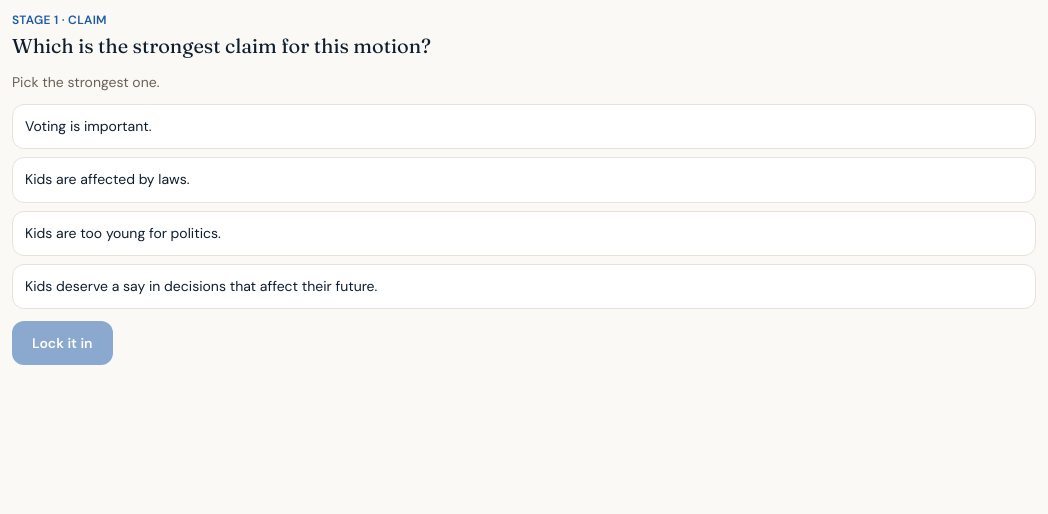
Scenario: ChoiceStage › asks the coach to talk a wrong pick through
The image size is (1048, 514).
Click the radio button labelled "Voting is important.". click: {"x": 88, "y": 126}
box: [12,104,1036,149]
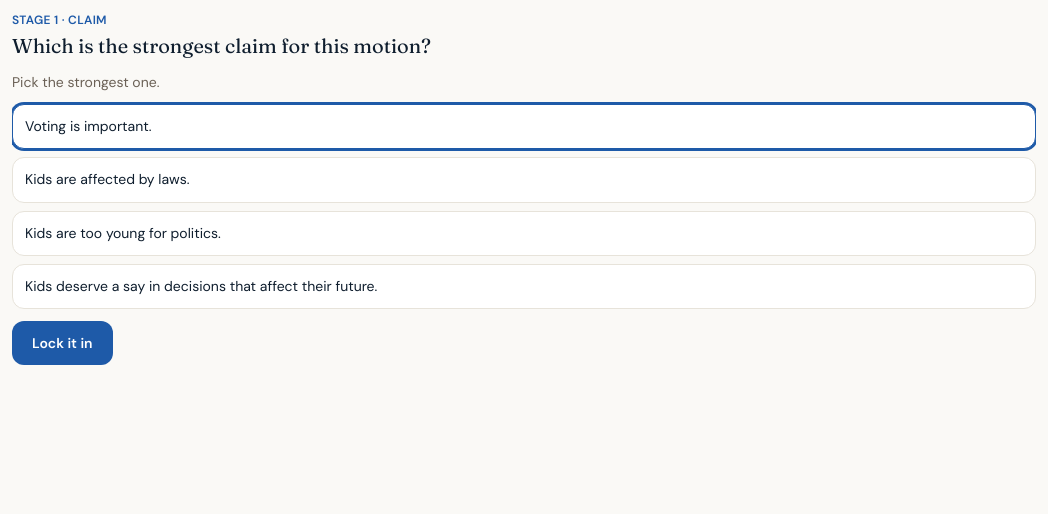
Click the button "Lock it in". click: {"x": 62, "y": 343}
box: [12,321,113,365]
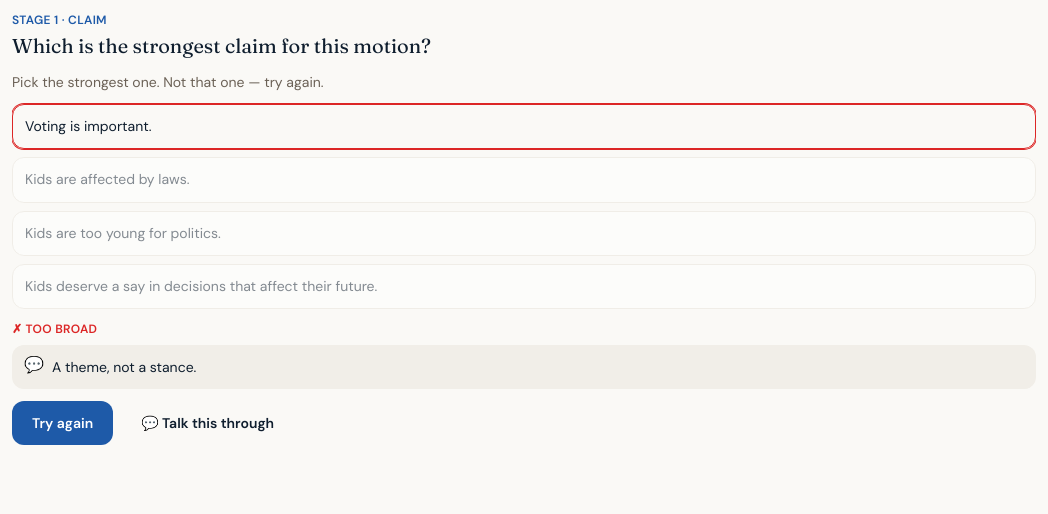
Click the button "💬 Talk this through". click: {"x": 208, "y": 423}
box: [121,401,294,445]
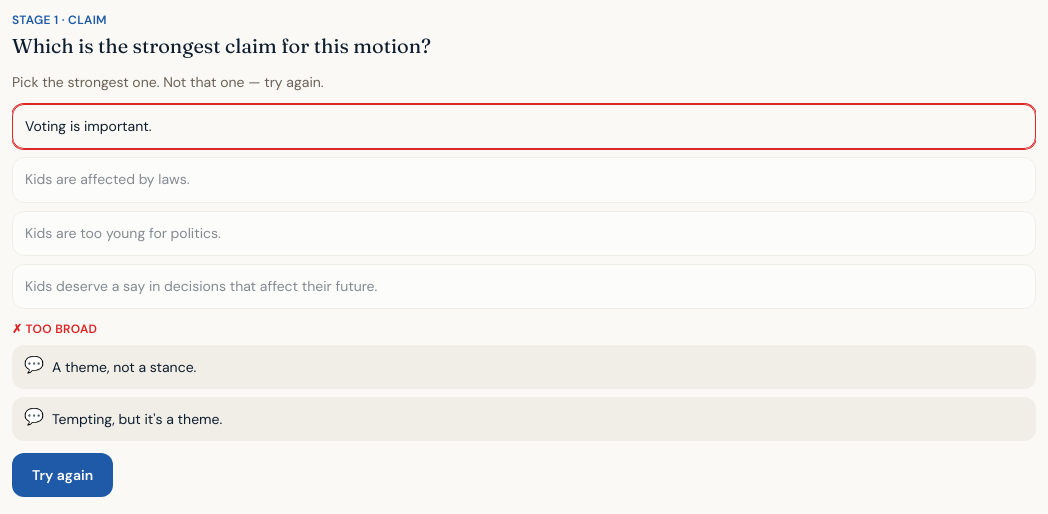
expect the text "Tempting, but it's a theme." is shown: met, box [52,410,222,428]
